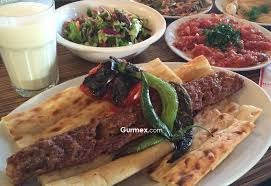kebap: (7, 103, 146, 184)
